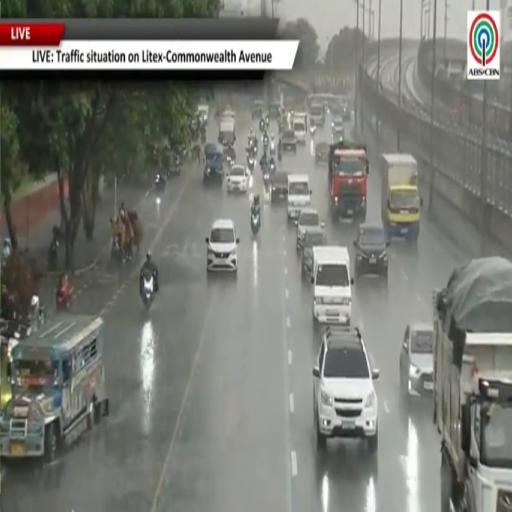car: (313, 327, 378, 454), (400, 323, 433, 396), (354, 223, 389, 278), (206, 219, 239, 271), (301, 227, 327, 278), (295, 207, 324, 249), (227, 165, 248, 193), (271, 172, 287, 204), (315, 142, 330, 163), (332, 118, 345, 142), (282, 130, 296, 152), (340, 95, 351, 120), (252, 100, 264, 120)
jeepney: (0, 315, 108, 460)
motorcycle: (56, 281, 74, 310), (142, 274, 154, 309), (48, 236, 59, 271), (155, 173, 165, 195), (251, 212, 260, 235), (264, 167, 270, 191), (248, 153, 254, 172), (270, 160, 276, 177), (263, 136, 269, 152), (227, 154, 234, 167), (270, 142, 276, 157), (259, 119, 265, 132), (277, 118, 282, 133), (310, 124, 315, 136), (278, 147, 282, 162), (265, 116, 269, 127)
truck: (433, 258, 511, 511), (381, 154, 422, 242), (328, 140, 368, 220)
